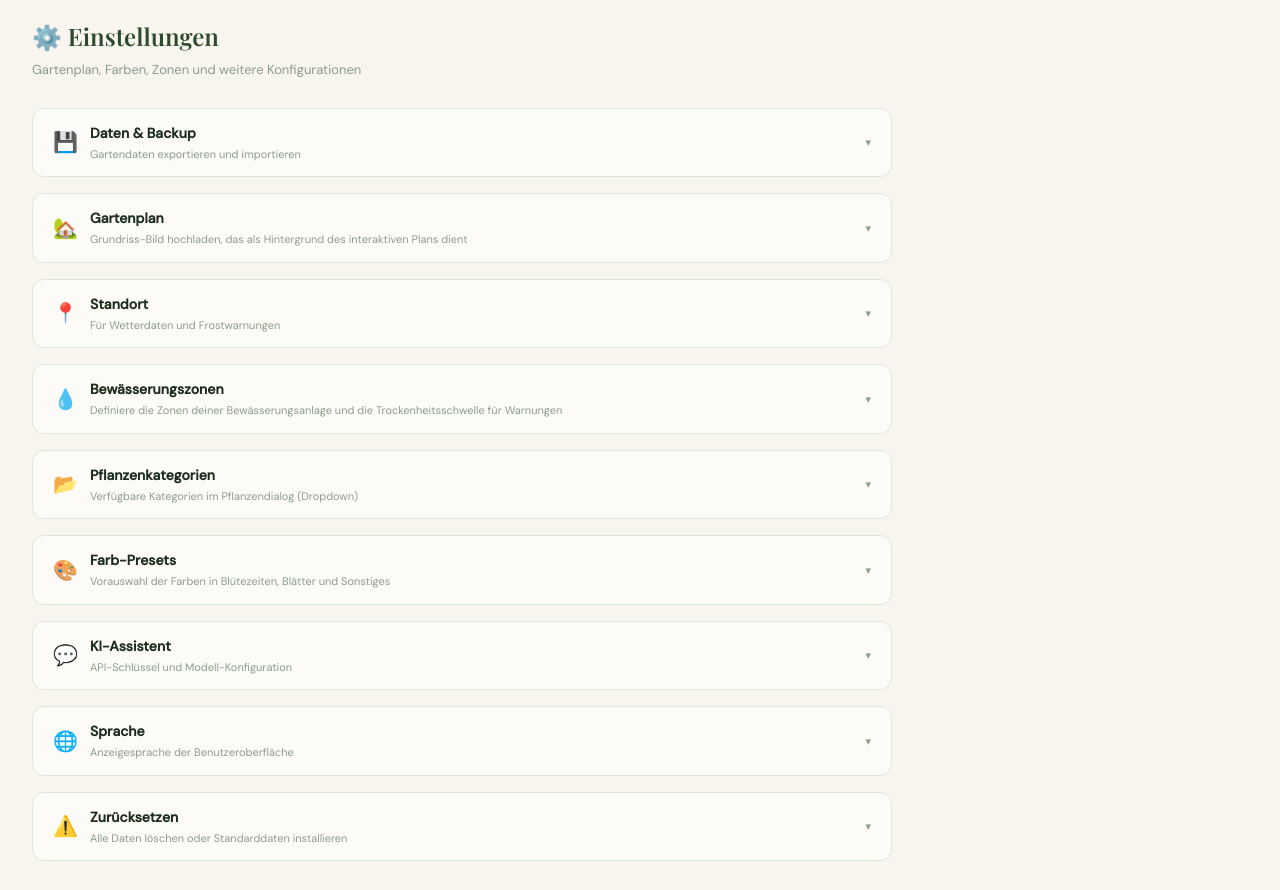
Test: Language switching via SettingsView › DE → EN: saves to DB and switches i18n to English
The width and height of the screenshot is (1280, 890).
Click the button with test id "language-section-toggle": (117, 731) [53,722,871,759]
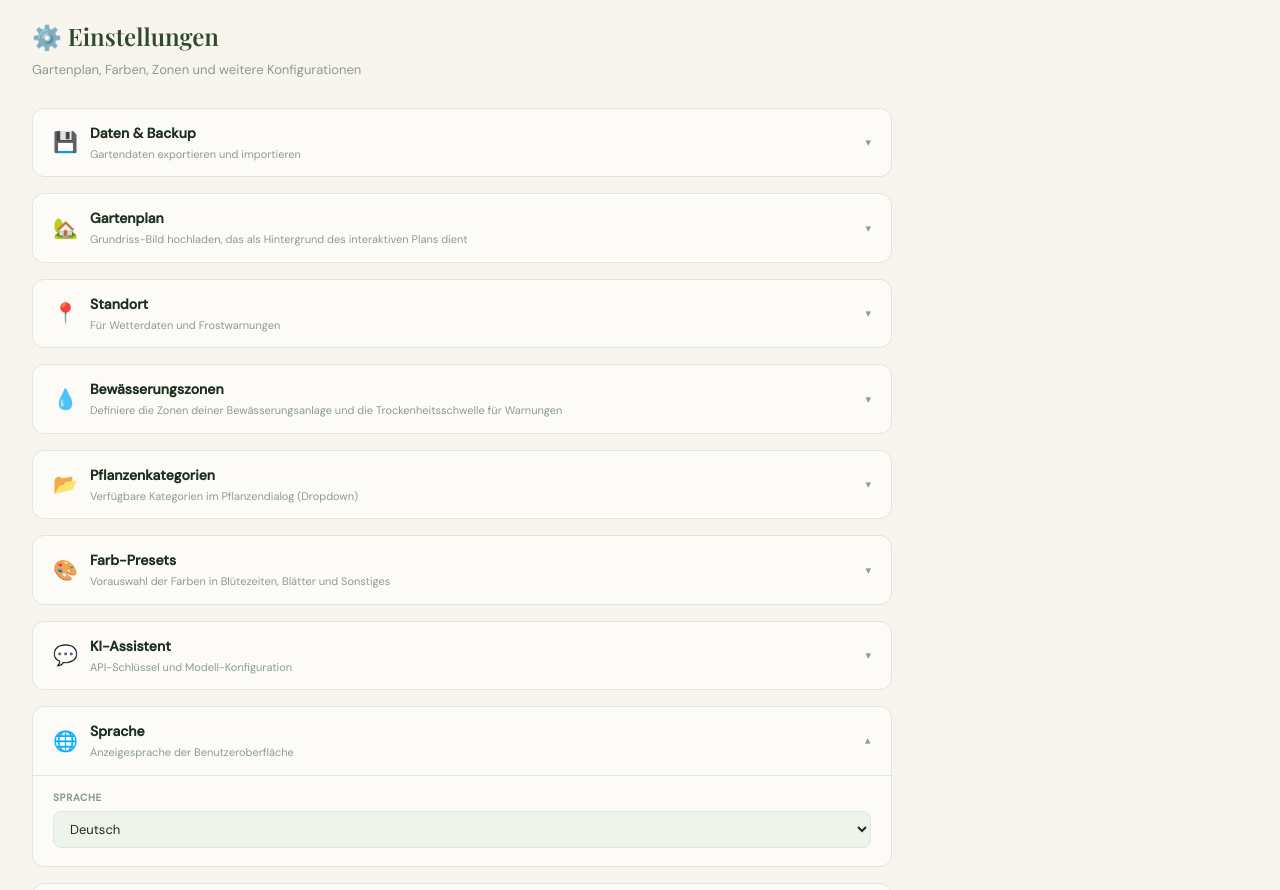
Expected: the dropdown shows "Deutsch"
Select "English" in the dropdown: (462, 829) [53,810,871,848]
(page scrolled)
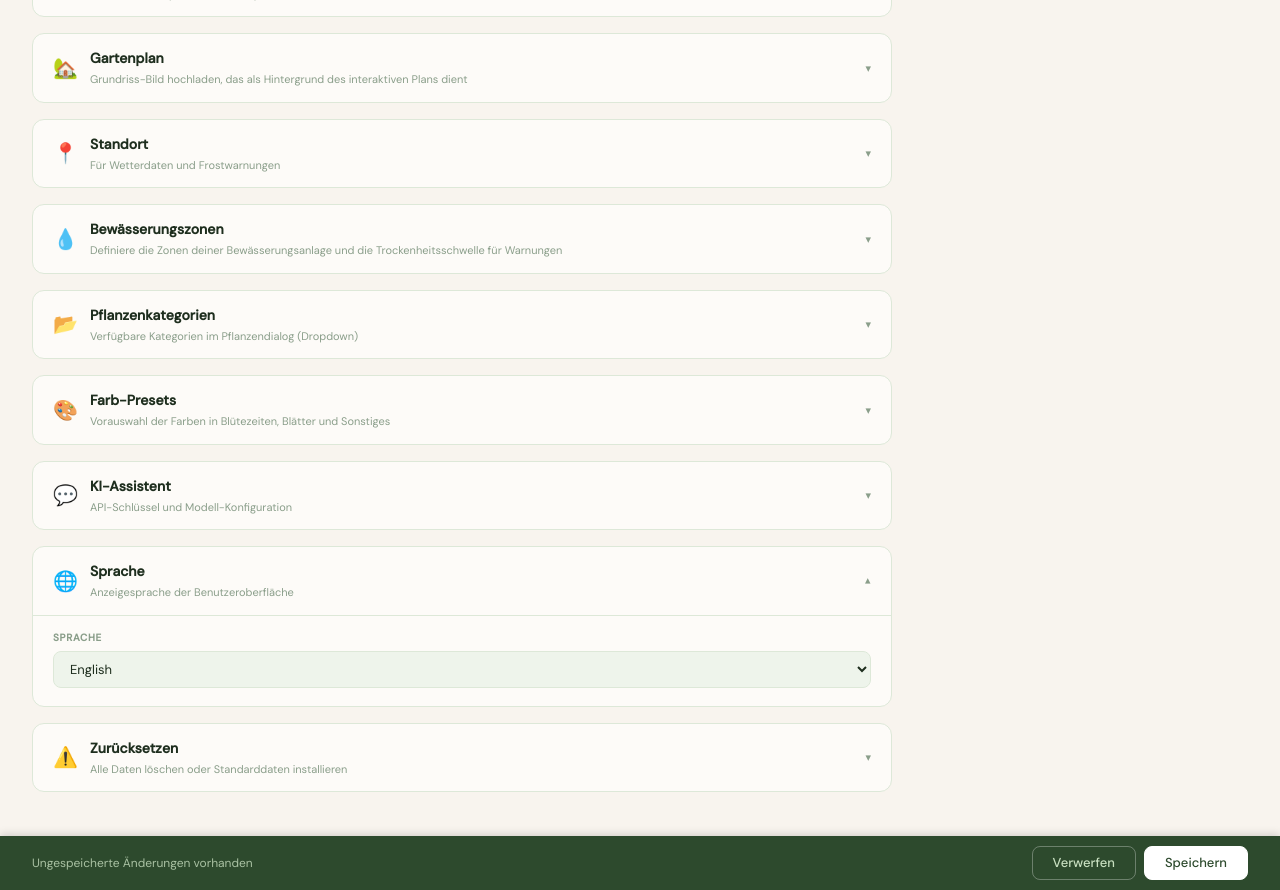
Expected: the button with test id "save-bar-save" is enabled
Click the button with test id "save-bar-save": (1196, 863) [1144,846,1248,880]
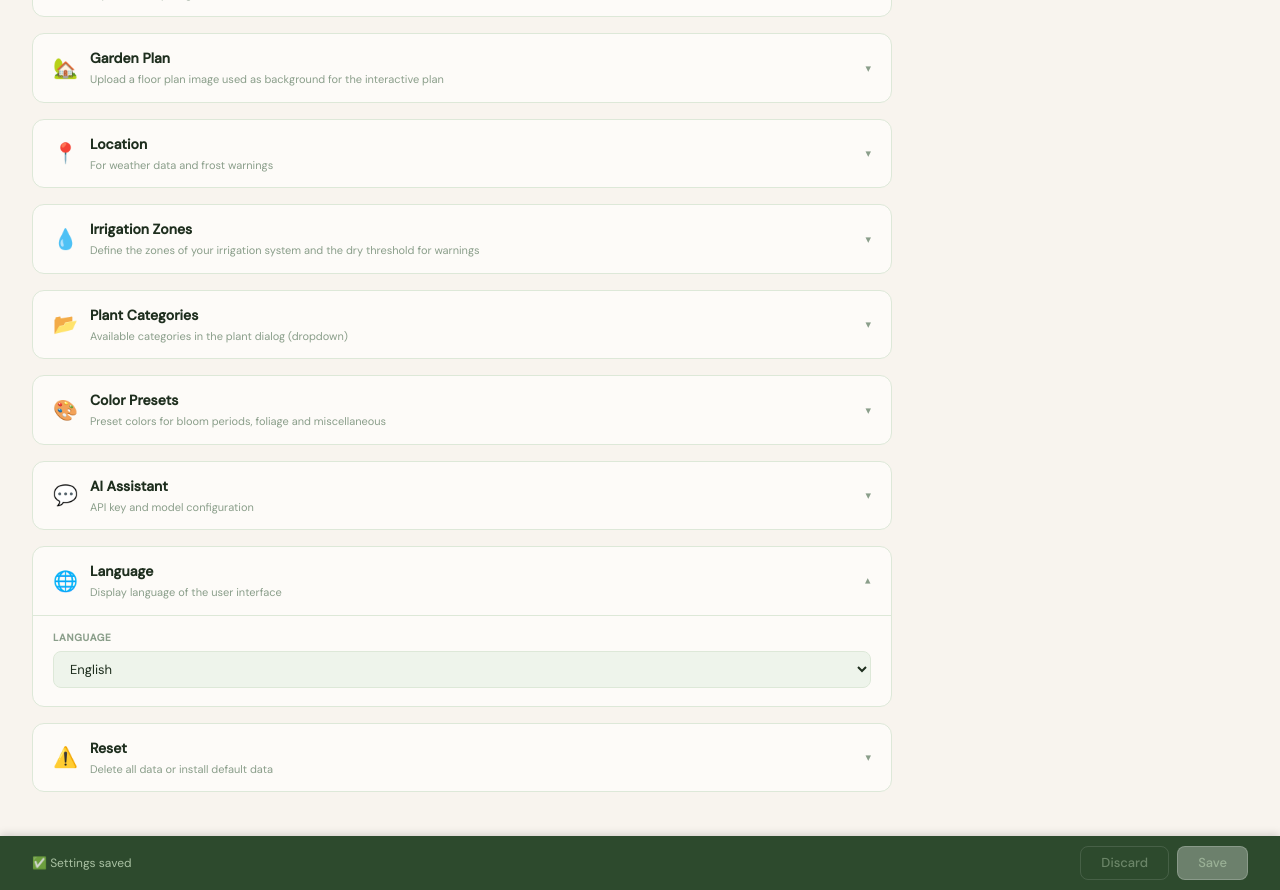
Expected: the button with test id "save-bar-save" is disabled, [1177,846,1248,880]
